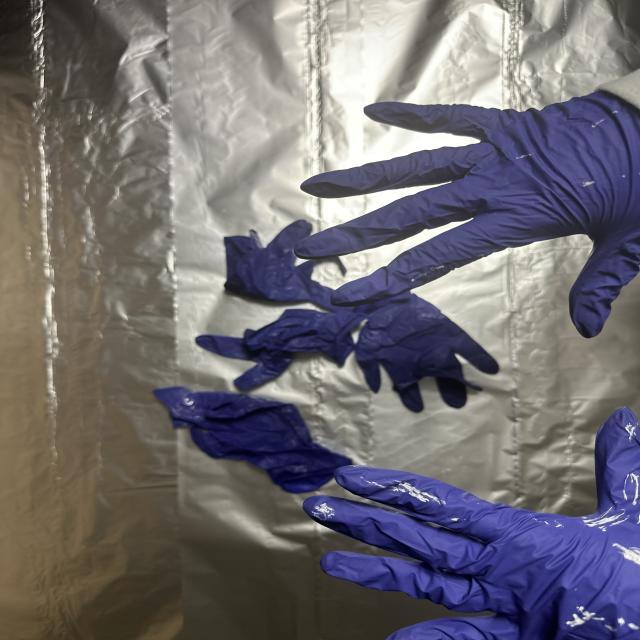gloves_contaminated: (294, 87, 640, 338), (304, 408, 640, 640)
